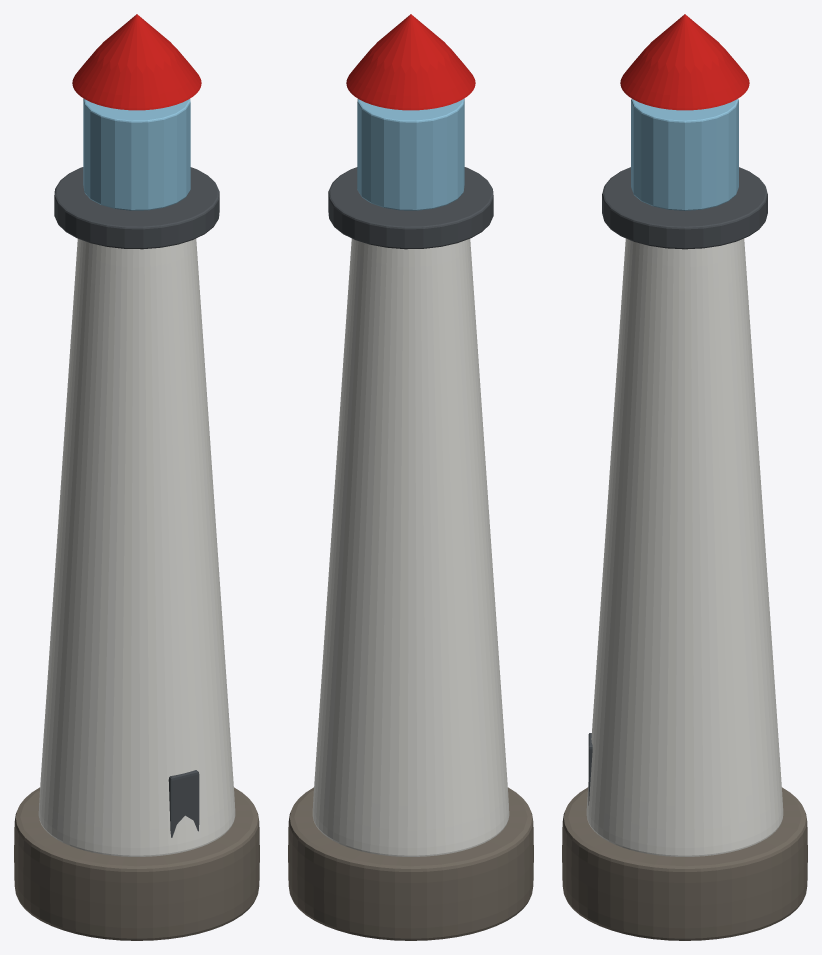
The model's file is lighthouse_bad_uniform.obj.
The picture shows the model from 3 angles, left to right: view 1: azimuth 30°, elevation 25°; view 2: azimuth 150°, elevation 25°; view 3: azimuth 270°, elevation 25°; orthographic projection.
Visible parts, largest first — view 1: tower, base, lantern, roof, gallery, door; view 2: tower, base, lantern, roof, gallery; view 3: tower, base, lantern, roof, gallery.
Boxes of the visible parts, <box> form: tower: <box>38,238,235,856</box>; base: <box>14,787,259,940</box>; lantern: <box>83,98,190,210</box>; roof: <box>72,14,201,110</box>; gallery: <box>54,167,219,249</box>; door: <box>168,770,199,837</box>; tower: <box>312,238,509,856</box>; base: <box>288,787,533,940</box>; lantern: <box>357,98,464,210</box>; roof: <box>346,14,475,110</box>; gallery: <box>328,167,493,249</box>; tower: <box>586,238,783,856</box>; base: <box>562,787,807,940</box>; lantern: <box>631,99,738,210</box>; roof: <box>620,14,749,110</box>; gallery: <box>602,167,767,249</box>.
Size of the model in its own units: 5.93 by 23.35 by 5.93.
